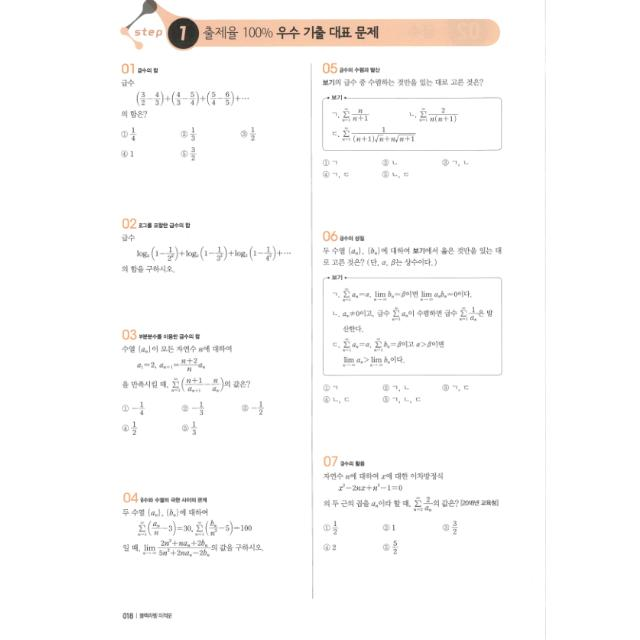multiple: (316, 221, 514, 419), (314, 52, 516, 198), (110, 317, 284, 457), (316, 445, 509, 569), (108, 51, 282, 177)
short: (110, 208, 304, 288), (110, 481, 280, 571)
